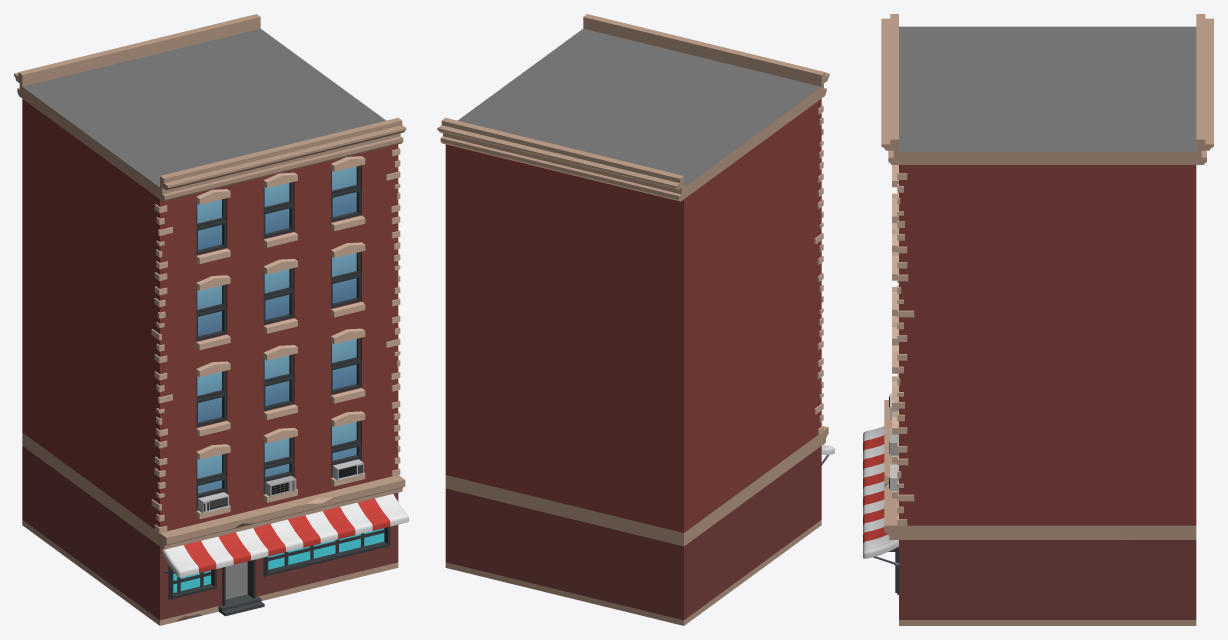
File: SM_Buildings_House_09_V2.fbx
The picture shows the model from 3 angles, left to right: view 1: azimuth 30°, elevation 25°; view 2: azimuth 150°, elevation 25°; view 3: azimuth 270°, elevation 25°; orthographic projection. The views are drawn at different scales.
Visible parts, largest first — view 1: SM_Buildings_House_09_V2; view 2: SM_Buildings_House_09_V2; view 3: SM_Buildings_House_09_V2.
Part boxes in pixels (left/top/right/bottom): SM_Buildings_House_09_V2: left=14, top=14, right=408, bottom=625; SM_Buildings_House_09_V2: left=437, top=14, right=834, bottom=625; SM_Buildings_House_09_V2: left=863, top=14, right=1213, bottom=625.
Size of the model in its own units: 8.59 by 15.33 by 10.03.
